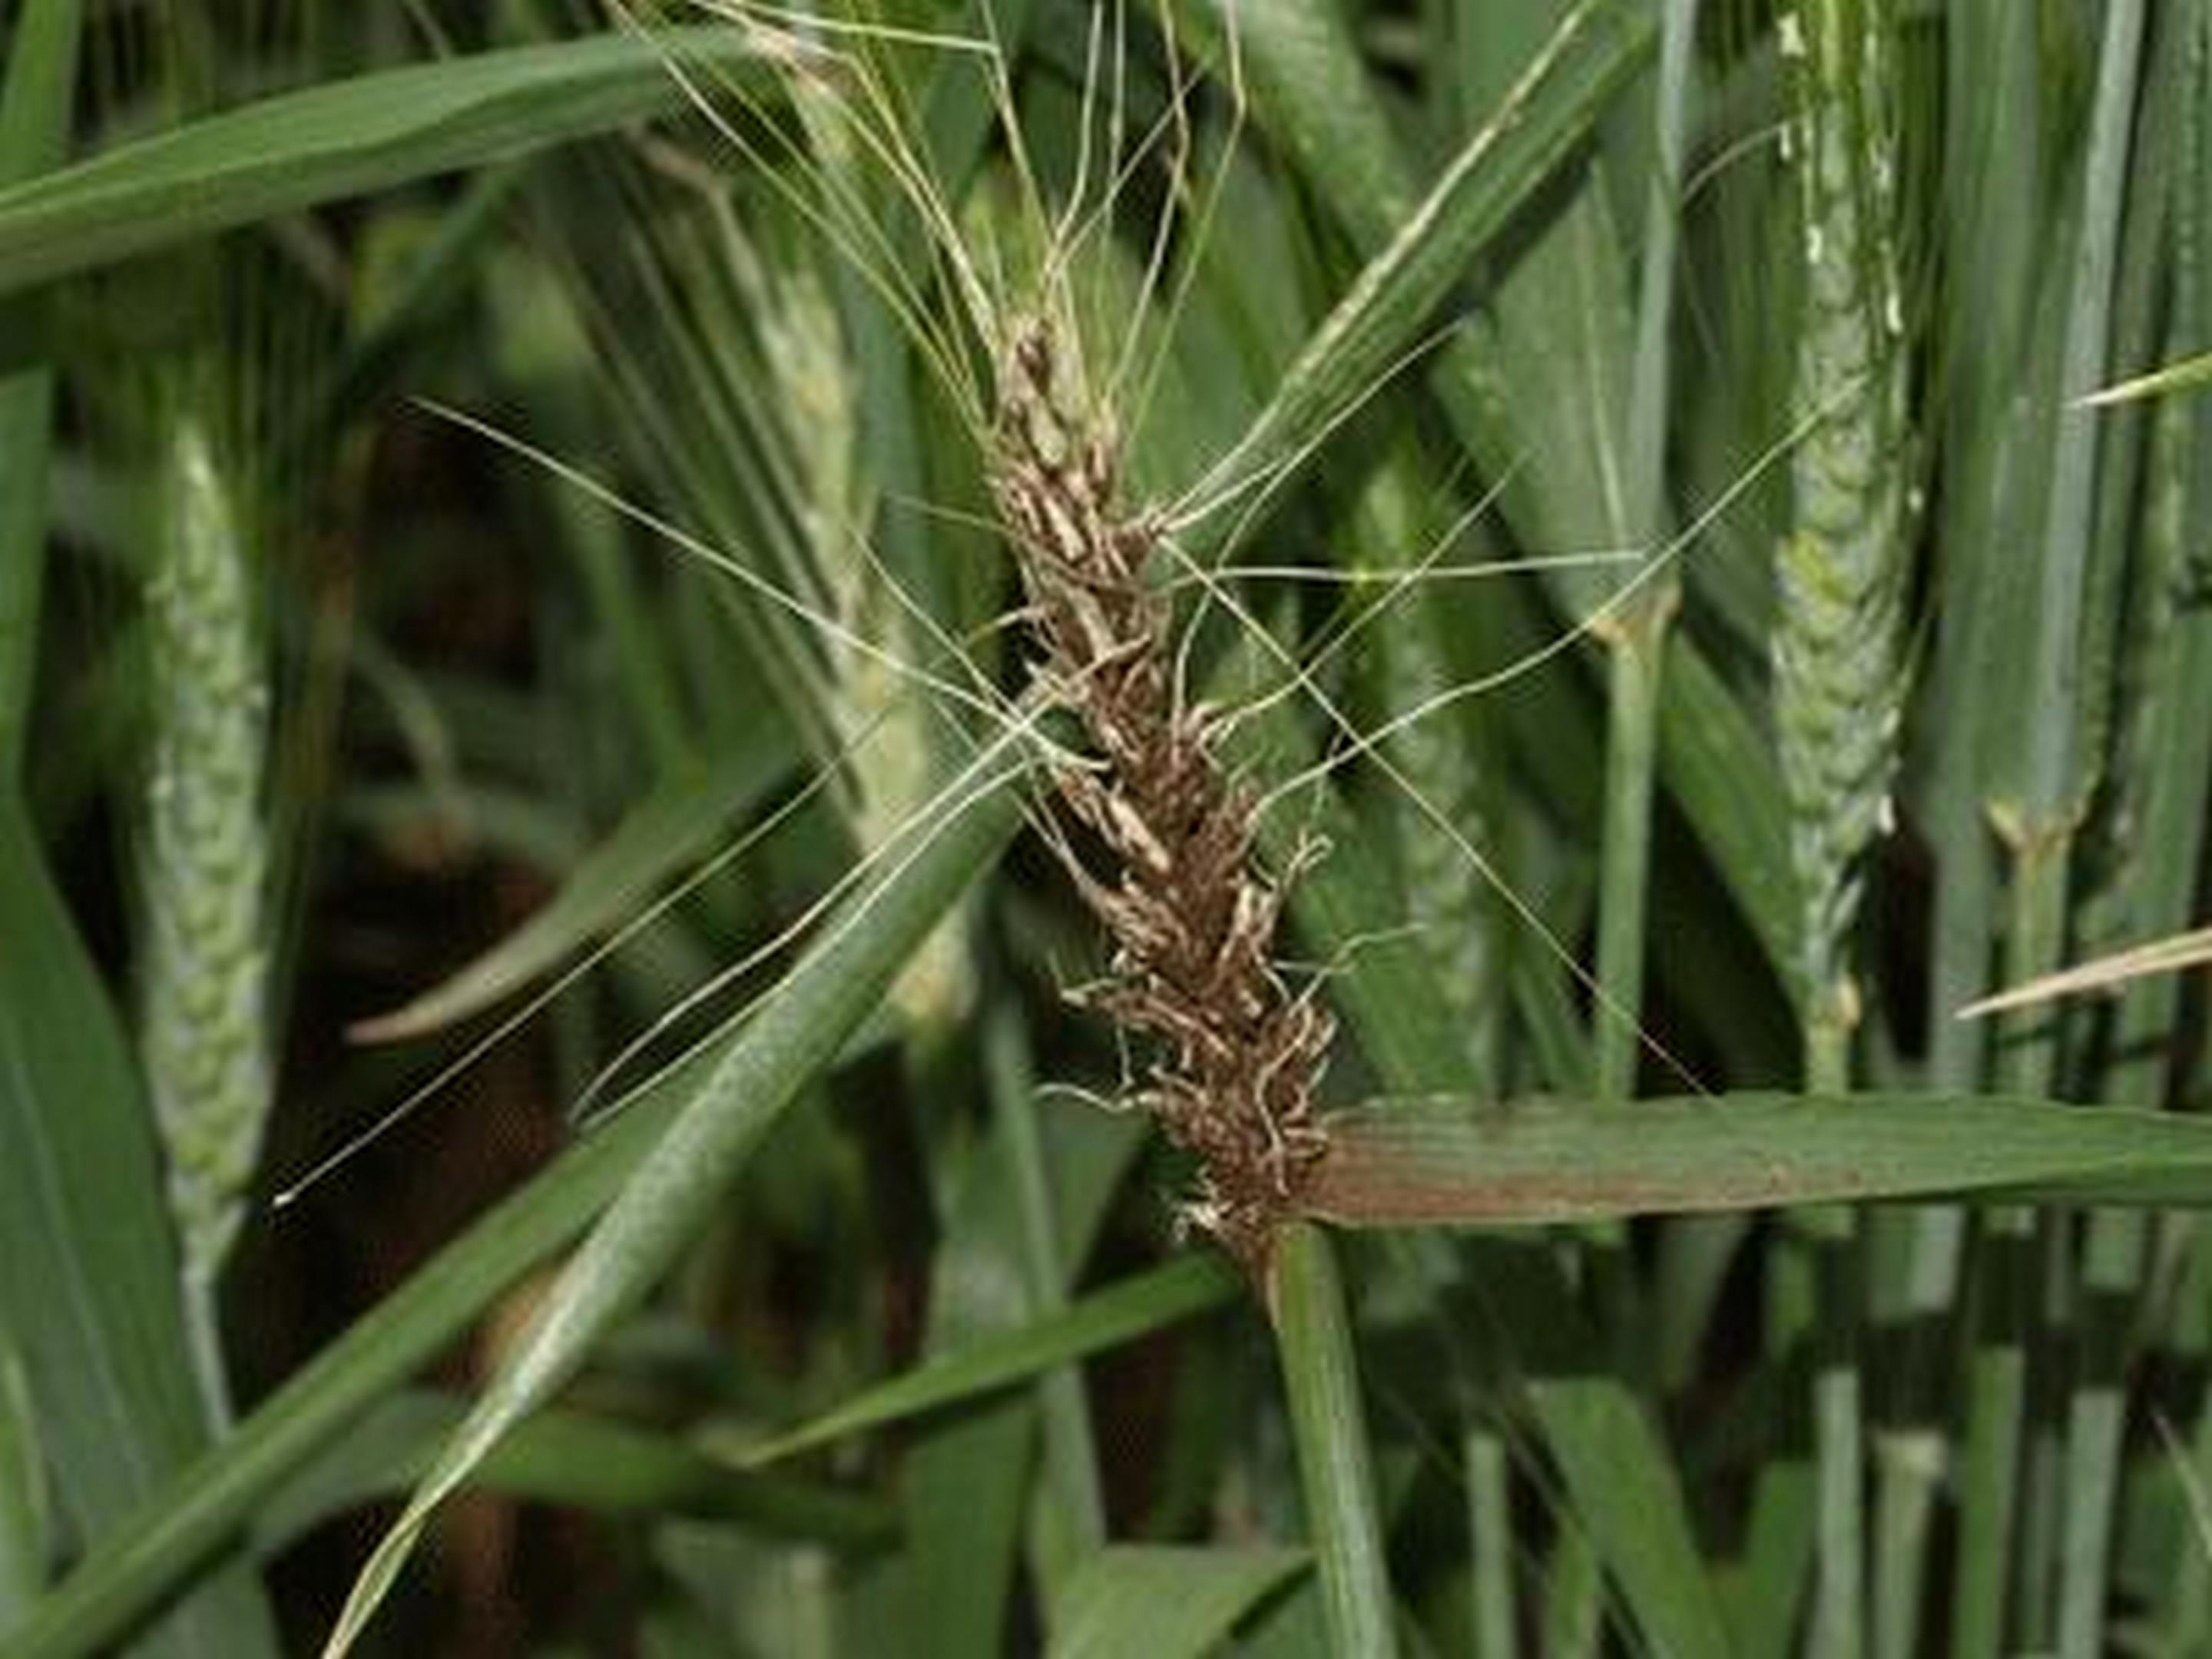Wheat Loose Smut: (927, 349, 1379, 1227)
